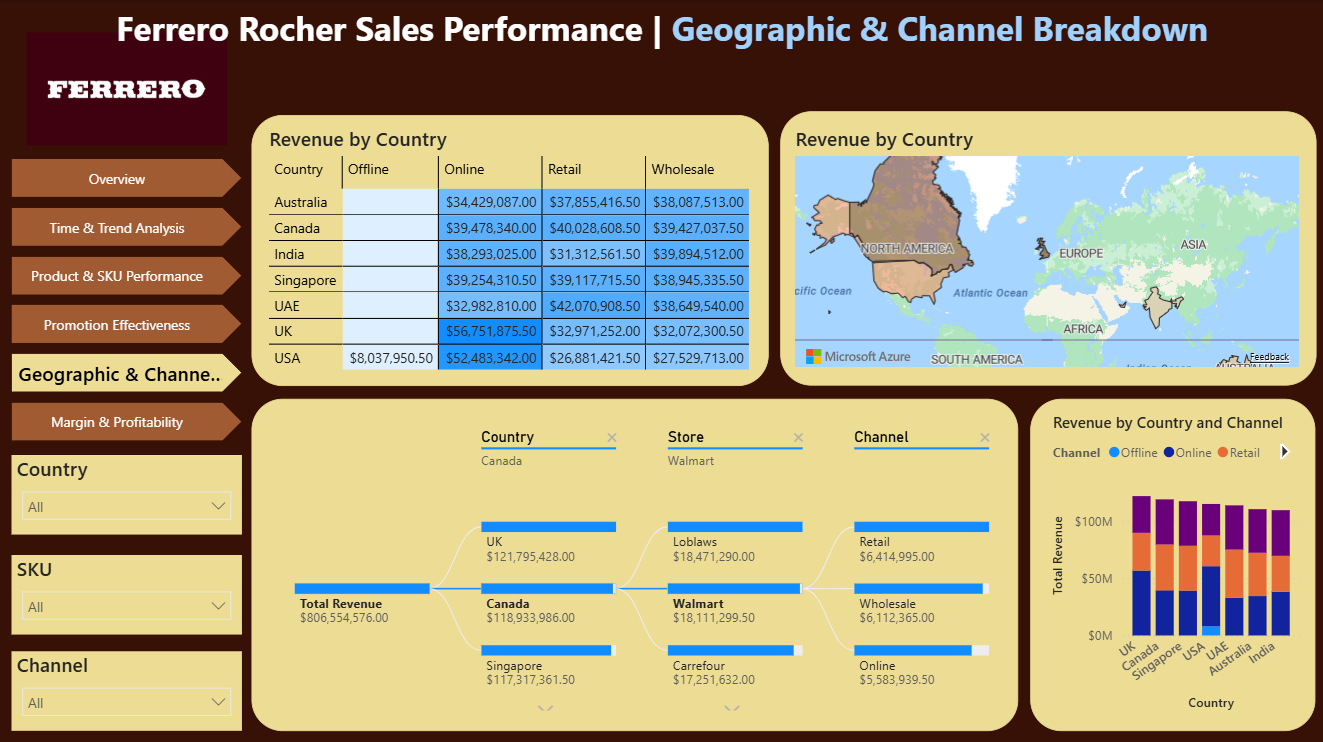

What the dashboard file says about the page in this screenshot:
{"tool":"powerbi","page":{"name":"Geographic & Channel Breakdown","canvas":[1280,720],"ordinal":4},"visuals":[{"type":"shape","box":[243.7,110.5,499.4,261.8],"z":0},{"type":"shape","box":[753.7,107.4,517.6,264.8],"z":1000},{"type":"slicer","title":"SKU","fields":{"Values":["Sales.SKU"]},"box":[12.6,535.3,222.2,77],"z":2000},{"type":"slicer","title":"Country","fields":{"Values":["Sales.Country"]},"box":[12.6,439.4,222.2,77],"z":3000},{"type":"slicer","title":"Channel","fields":{"Values":["Sales.Channel"]},"box":[12.6,628.8,222.2,77],"z":4000},{"type":"image","box":[12.6,31.6,222.2,108.6],"z":5000},{"type":"pageNavigator","box":[12.6,152.8,222.2,276.5],"z":6000},{"type":"textbox","box":[0,0,1280.3,53],"z":7000},{"type":"shape","box":[243.7,384.4,740,320.8],"z":8000},{"type":"azureMap","title":"Revenue by Country","fields":{"Category":["Sales.Country"]},"box":[764.2,121.1,496.4,239.1],"z":9000},{"type":"pivotTable","title":"Revenue by Country","fields":{"Rows":["Sales.Country"],"Columns":["Sales.Channel"],"Values":["Sales.Total Revenue"]},"box":[255.8,121.1,494.9,251.2],"z":10000},{"type":"decompositionTreeVisual","fields":{"ExplainBy":["Sales.Country","Sales.Store","Sales.Channel"],"Analyze":["Sales.Total Revenue"]},"box":[255.8,396.5,709.8,293.6],"z":11000},{"type":"shape","box":[995.8,384.4,275.4,320.8],"z":12000},{"type":"columnChart","title":"Revenue by Country and Channel","fields":{"Category":["Sales.Country"],"Series":["Sales.Channel"],"Y":["Sales.Total Revenue"]},"box":[1012.4,396.5,248.2,293.6],"z":13000}]}

Visuals, with their boxes in screenshot pixels (x1, y1, x2, y2), scaled from the page's 1280x720 canvas onto the 1323x742 screenshot:
shape: {"left": 252, "top": 114, "right": 768, "bottom": 384}
shape: {"left": 779, "top": 111, "right": 1314, "bottom": 384}
"SKU" slicer: {"left": 13, "top": 552, "right": 243, "bottom": 631}
"Country" slicer: {"left": 13, "top": 453, "right": 243, "bottom": 532}
"Channel" slicer: {"left": 13, "top": 648, "right": 243, "bottom": 727}
image: {"left": 13, "top": 33, "right": 243, "bottom": 144}
pageNavigator: {"left": 13, "top": 157, "right": 243, "bottom": 442}
textbox: {"left": 0, "top": 0, "right": 1322, "bottom": 55}
shape: {"left": 252, "top": 396, "right": 1017, "bottom": 727}
"Revenue by Country" azureMap: {"left": 790, "top": 125, "right": 1303, "bottom": 371}
"Revenue by Country" pivotTable: {"left": 264, "top": 125, "right": 776, "bottom": 384}
decompositionTreeVisual - Sales.Country x Sales.Store: {"left": 264, "top": 409, "right": 998, "bottom": 711}
shape: {"left": 1029, "top": 396, "right": 1314, "bottom": 727}
"Revenue by Country and Channel" columnChart: {"left": 1046, "top": 409, "right": 1303, "bottom": 711}
